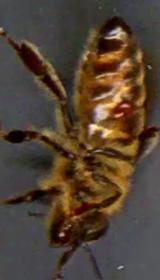varroa_mite: (109, 88, 140, 134)
